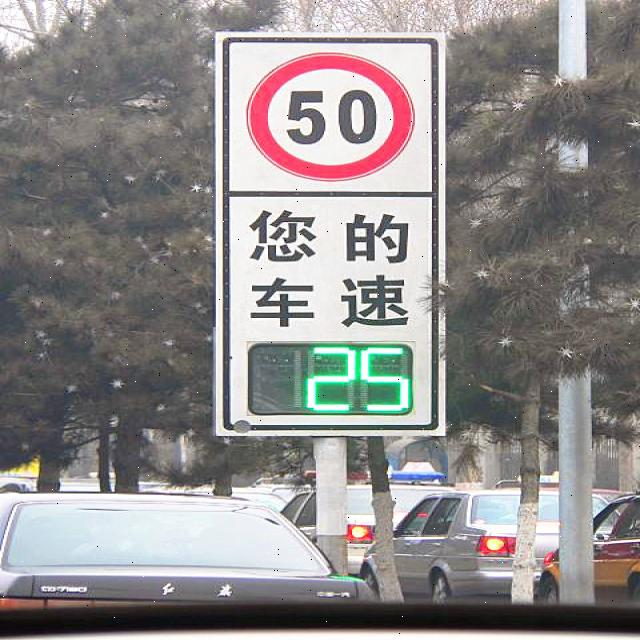speed limit 50: (245, 52, 415, 183)
